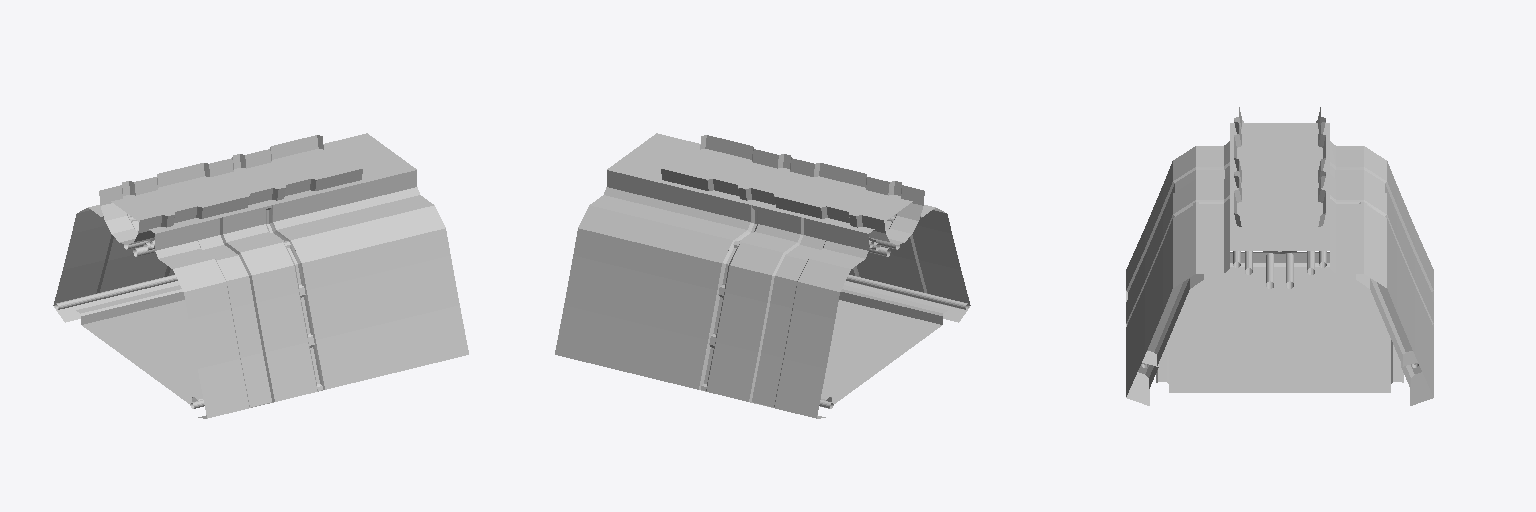
Rendered from testiram_cijelu_traku_traka3.obj.
The picture shows the model from 3 angles: view 1: azimuth 30°, elevation 25°; view 2: azimuth 150°, elevation 25°; view 3: azimuth 270°, elevation 25°; orthographic projection.
Size of the model in its own units: 2.87 by 1.68 by 2.8.